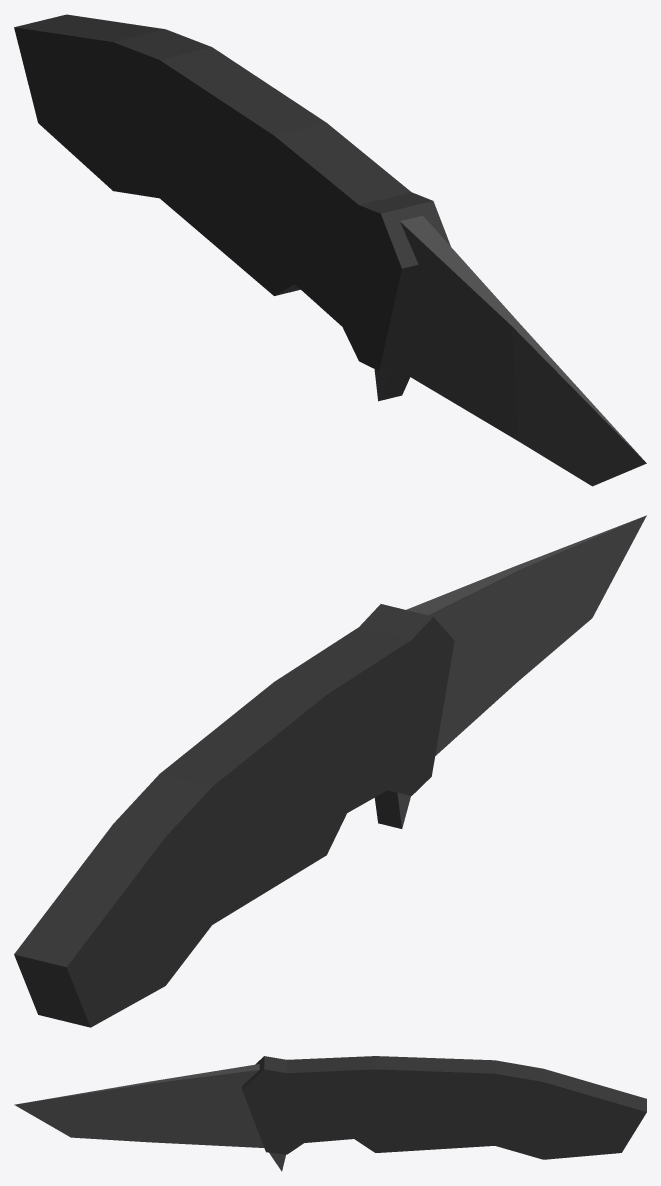
The model's file is knife_4.fbx.
3 views of the same model, one above another, from view 1: azimuth 30°, elevation 25°; view 2: azimuth 150°, elevation 25°; view 3: azimuth 270°, elevation 25° (orthographic). The views are drawn at different scales.
Parts seen in each view (by area): view 1: knife_4; view 2: knife_4; view 3: knife_4.
Boxes of the visible parts, x1,y1,x2,y2 form: knife_4: (14,14,646,486); knife_4: (14,515,646,1027); knife_4: (14,1056,646,1171).
Size of the model in its own units: 2.01 by 7.43 by 40.14.
1 material, 1 textured.
